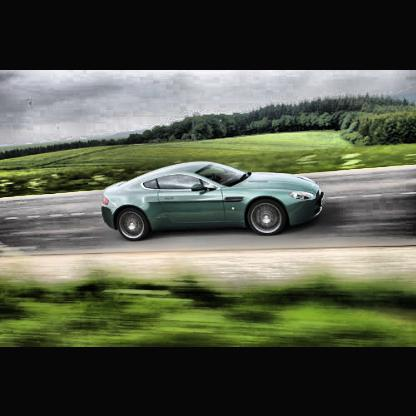Aston Martin V8 Vantage Coupe 2012: (101, 160, 328, 239)
